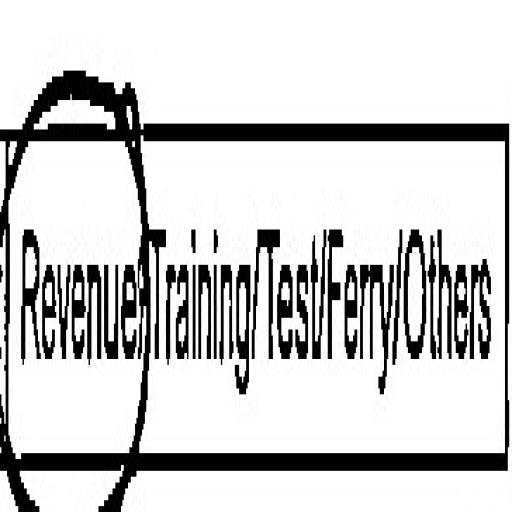check: (0, 25, 147, 512)
